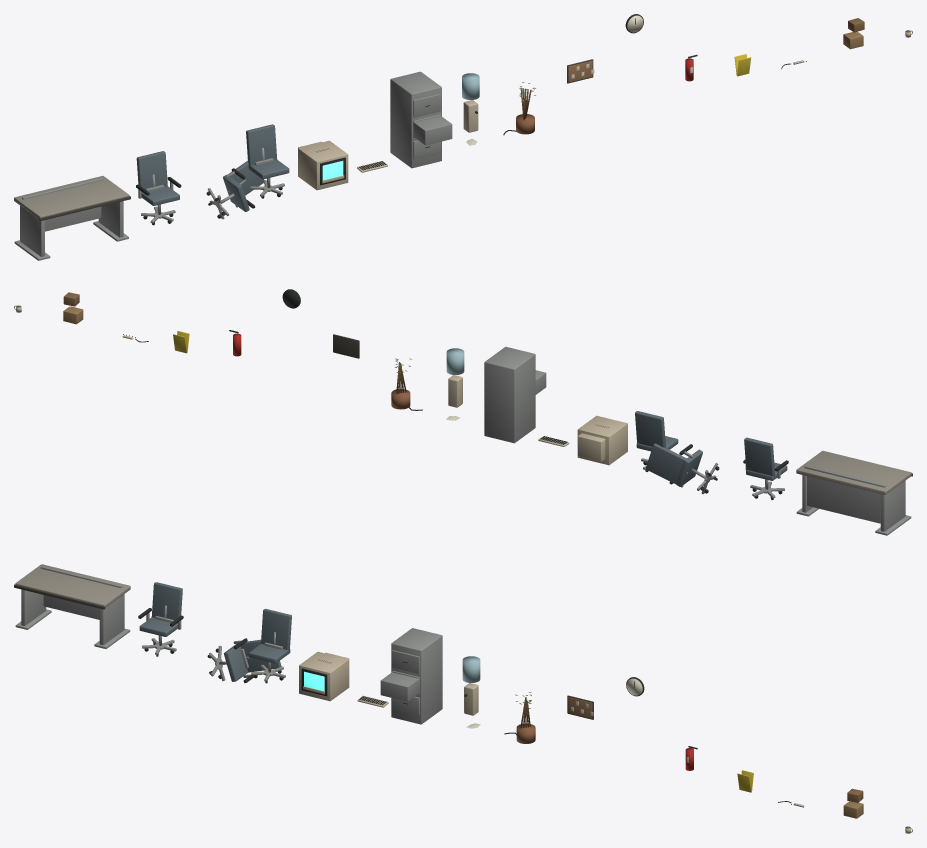
3 renders of one model, top to bottom at view 1: azimuth 30°, elevation 25°; view 2: azimuth 150°, elevation 25°; view 3: azimuth 330°, elevation 25°, orthographic.
Parts seen in each view (by area): view 1: cabinet_body, desk_top, crt_case, chair_back.002, desk_modesty, chair_back, desk_leg, open_drawer, desk_leg.001, cabinet_drawer.002, chair_seat.002, chair_back.001; view 2: cabinet_body, desk_top, desk_modesty, crt_case, chair_back.001, chair_back, desk_leg, chair_back.002, crt_rear_tube, cork_frame; view 3: cabinet_body, desk_top, crt_case, chair_back.002, desk_modesty, chair_back, desk_leg.001, open_drawer, desk_leg, chair_seat.001.
Part boxes in pixels (x1=…): cabinet_body: x1=390, y1=71, x2=441, y2=168; desk_top: x1=14, y1=176, x2=129, y2=219; crt_case: x1=298, y1=140, x2=348, y2=190; chair_back.002: x1=246, y1=124, x2=277, y2=166; desk_modesty: x1=22, y1=177, x2=103, y2=231; chair_back: x1=136, y1=151, x2=167, y2=189; desk_leg: x1=20, y1=205, x2=44, y2=256; open_drawer: x1=413, y1=116, x2=452, y2=145; desk_leg.001: x1=98, y1=201, x2=123, y2=237; cabinet_drawer.002: x1=413, y1=93, x2=441, y2=117; chair_seat.002: x1=248, y1=159, x2=289, y2=179; chair_back.001: x1=227, y1=160, x2=264, y2=195; cabinet_body: x1=484, y1=346, x2=535, y2=443; desk_top: x1=796, y1=450, x2=911, y2=494; desk_modesty: x1=804, y1=465, x2=886, y2=523; crt_case: x1=577, y1=415, x2=627, y2=465; chair_back.001: x1=645, y1=443, x2=687, y2=483; chair_back: x1=744, y1=437, x2=775, y2=477; desk_leg: x1=880, y1=480, x2=905, y2=531; chair_back.002: x1=635, y1=411, x2=665, y2=447; crt_rear_tube: x1=577, y1=433, x2=605, y2=461; cork_frame: x1=333, y1=334, x2=359, y2=358; cabinet_body: x1=391, y1=628, x2=442, y2=724; desk_top: x1=15, y1=564, x2=130, y2=607; crt_case: x1=299, y1=651, x2=349, y2=701; chair_back.002: x1=261, y1=608, x2=291, y2=651; desk_modesty: x1=40, y1=566, x2=122, y2=619; chair_back: x1=151, y1=582, x2=182, y2=623; desk_leg.001: x1=99, y1=594, x2=124, y2=645; open_drawer: x1=380, y1=672, x2=419, y2=701; desk_leg: x1=21, y1=589, x2=46, y2=625; chair_seat.001: x1=224, y1=644, x2=248, y2=681.
Size of the model in its own units: 16.22 by 1.81 by 1.15.
